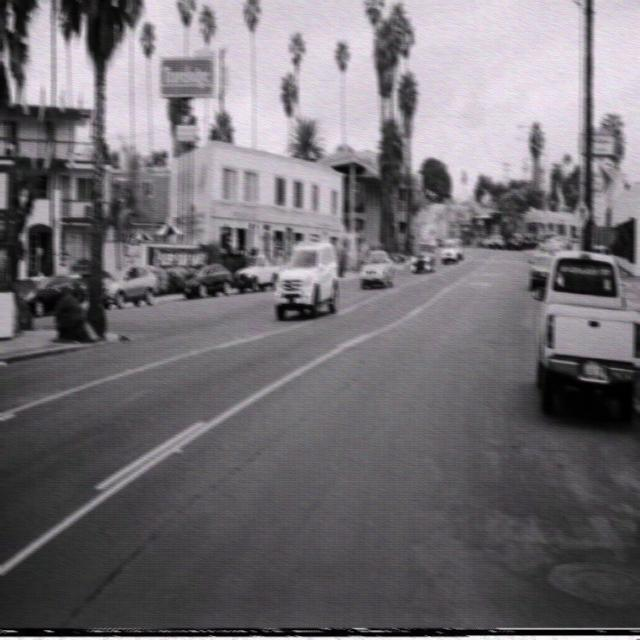pedestrianCrossing: (572, 196, 590, 228)
